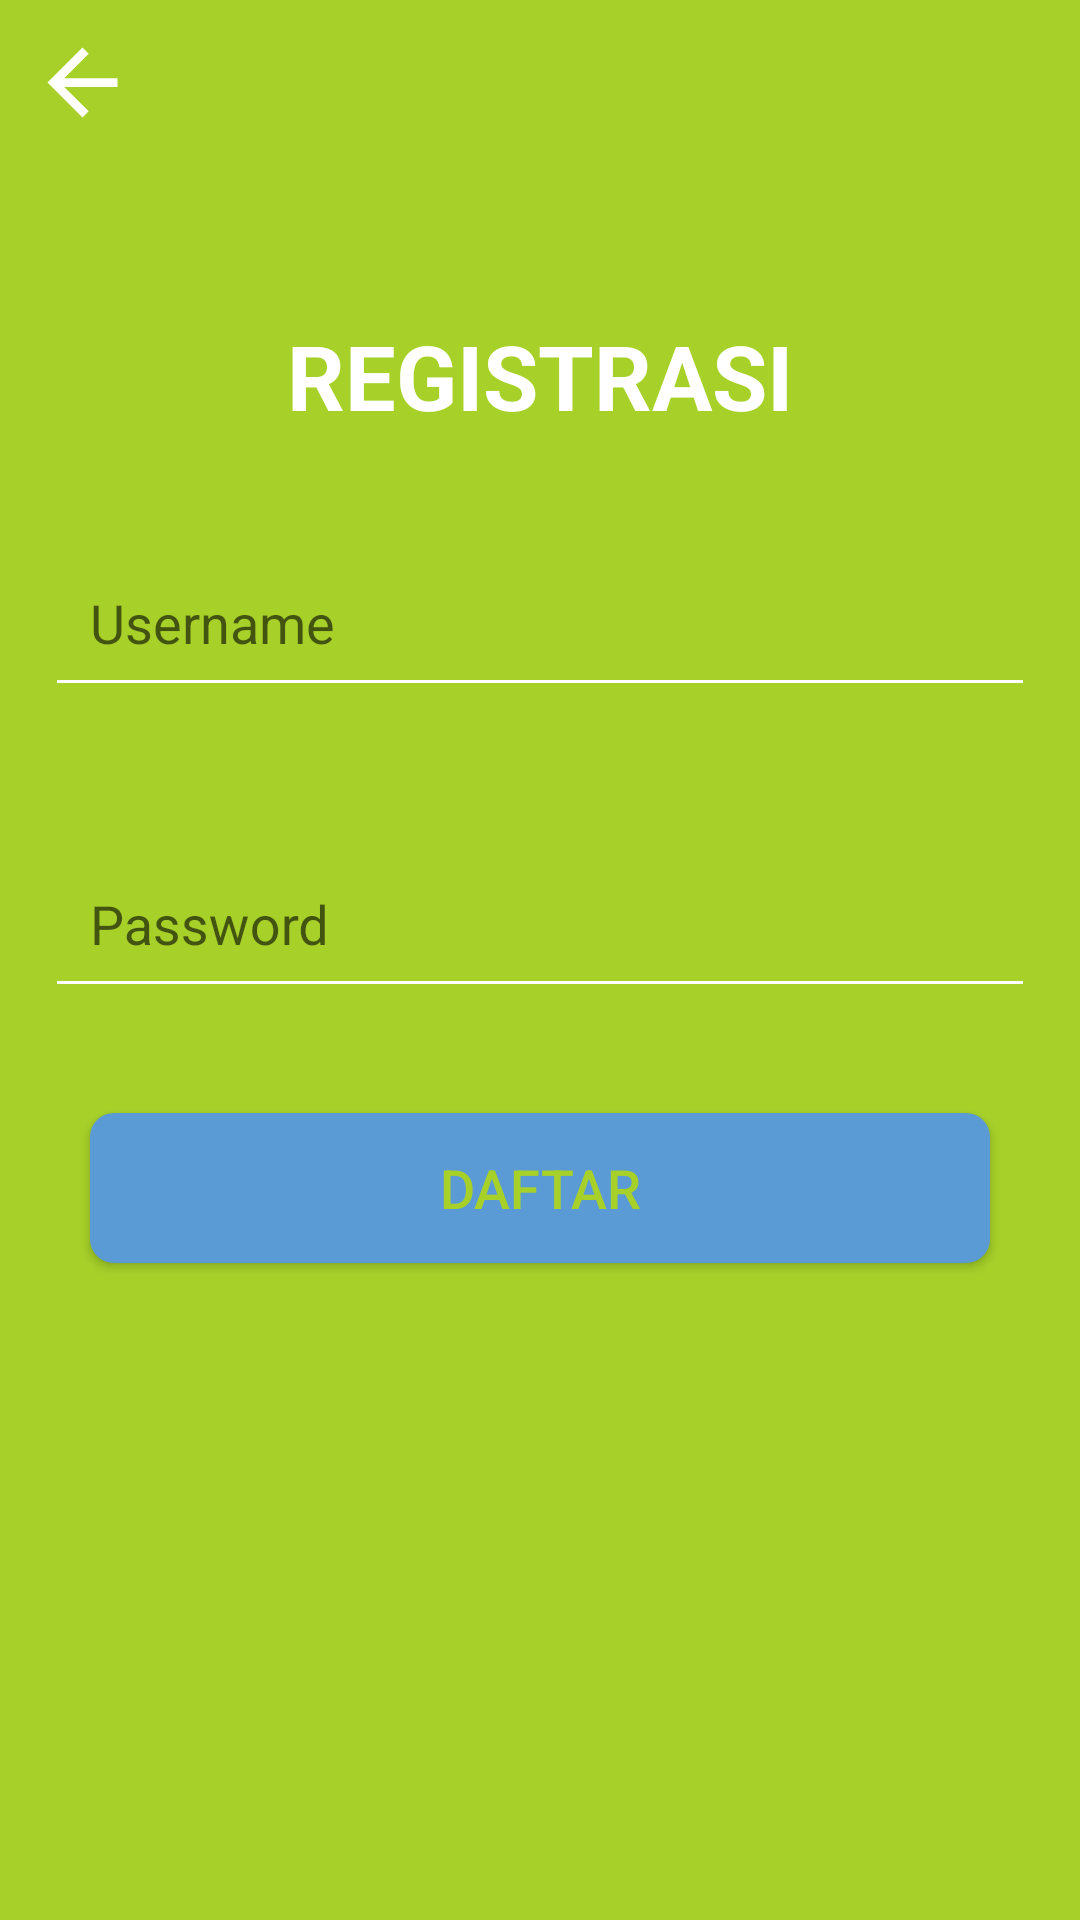

Point at icon controls on the screen. Image size 1080x1920, points as (x=x, y=y).
arrow back: (x=82, y=82)
